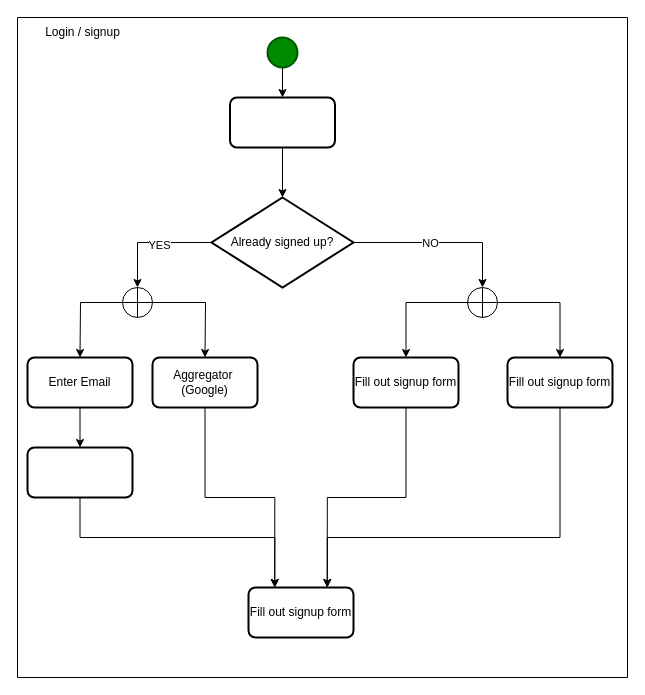
Image size: 645x695. Some labels were removed from this diagram. The shapes that lost their labels are listed below. From the top down, each one's centre as x and y in pixels, then its label:
point 282,122: Login or Signup
point 79,472: Enter Password
